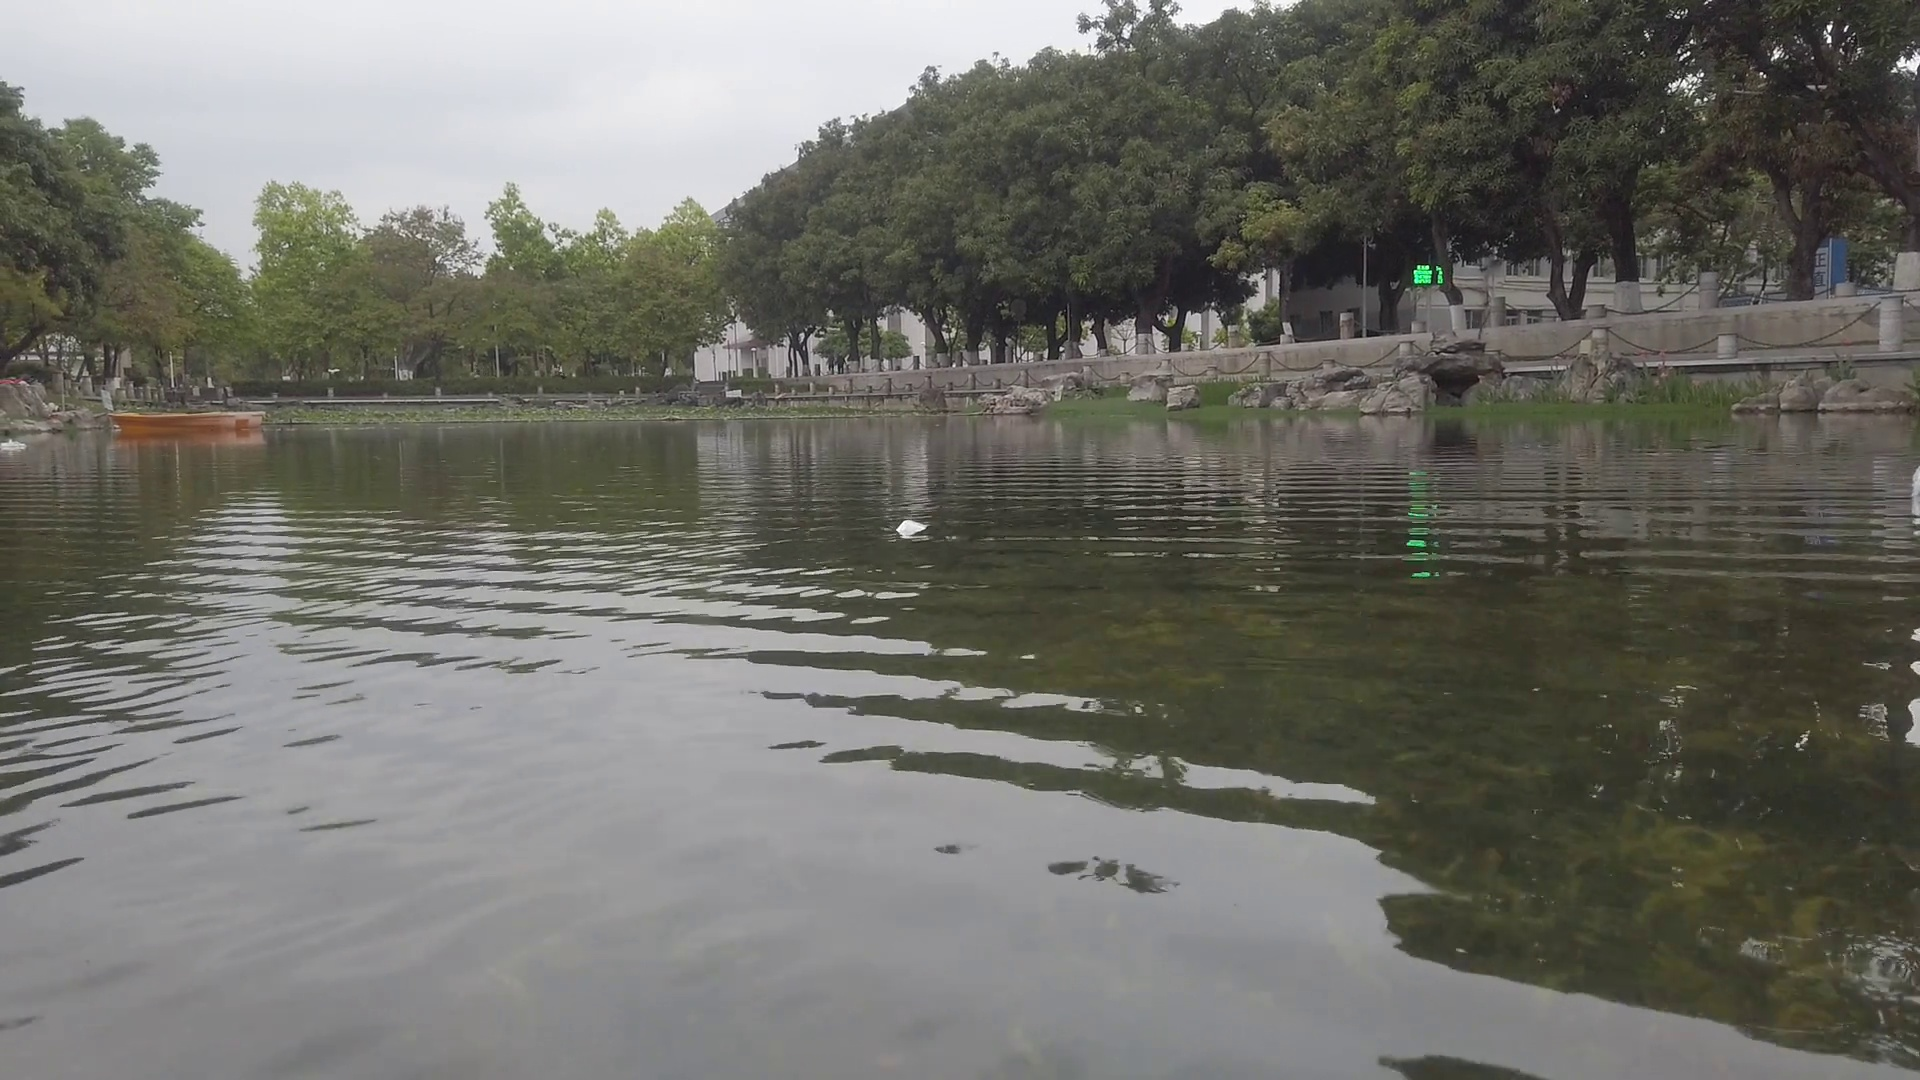paper: (895, 520, 926, 539)
plastic: (1, 436, 28, 454)
